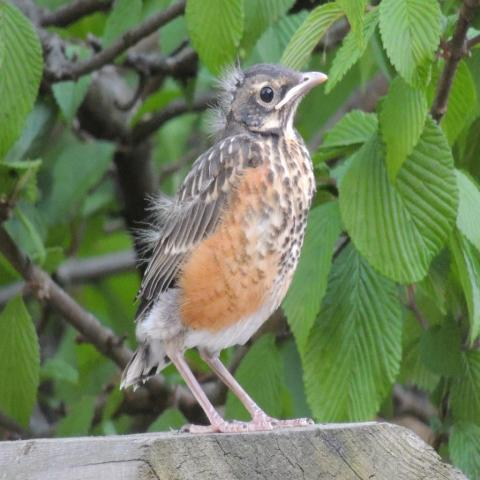bird: (118, 57, 329, 434)
